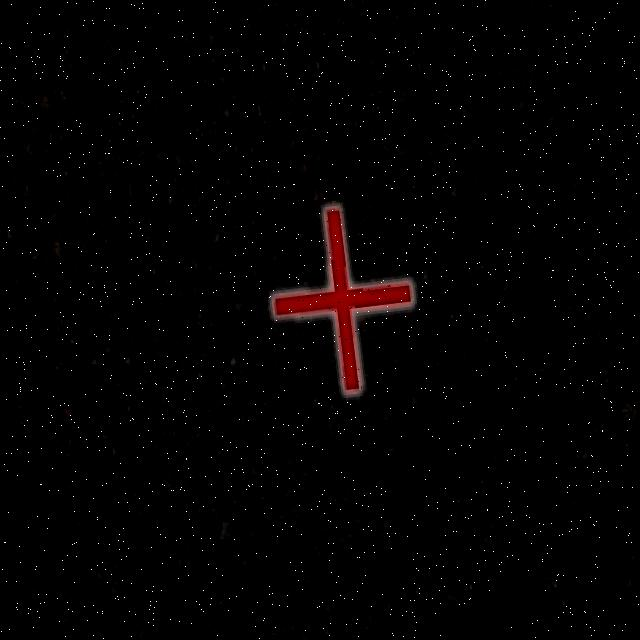x_marker: (262, 199, 421, 398)
